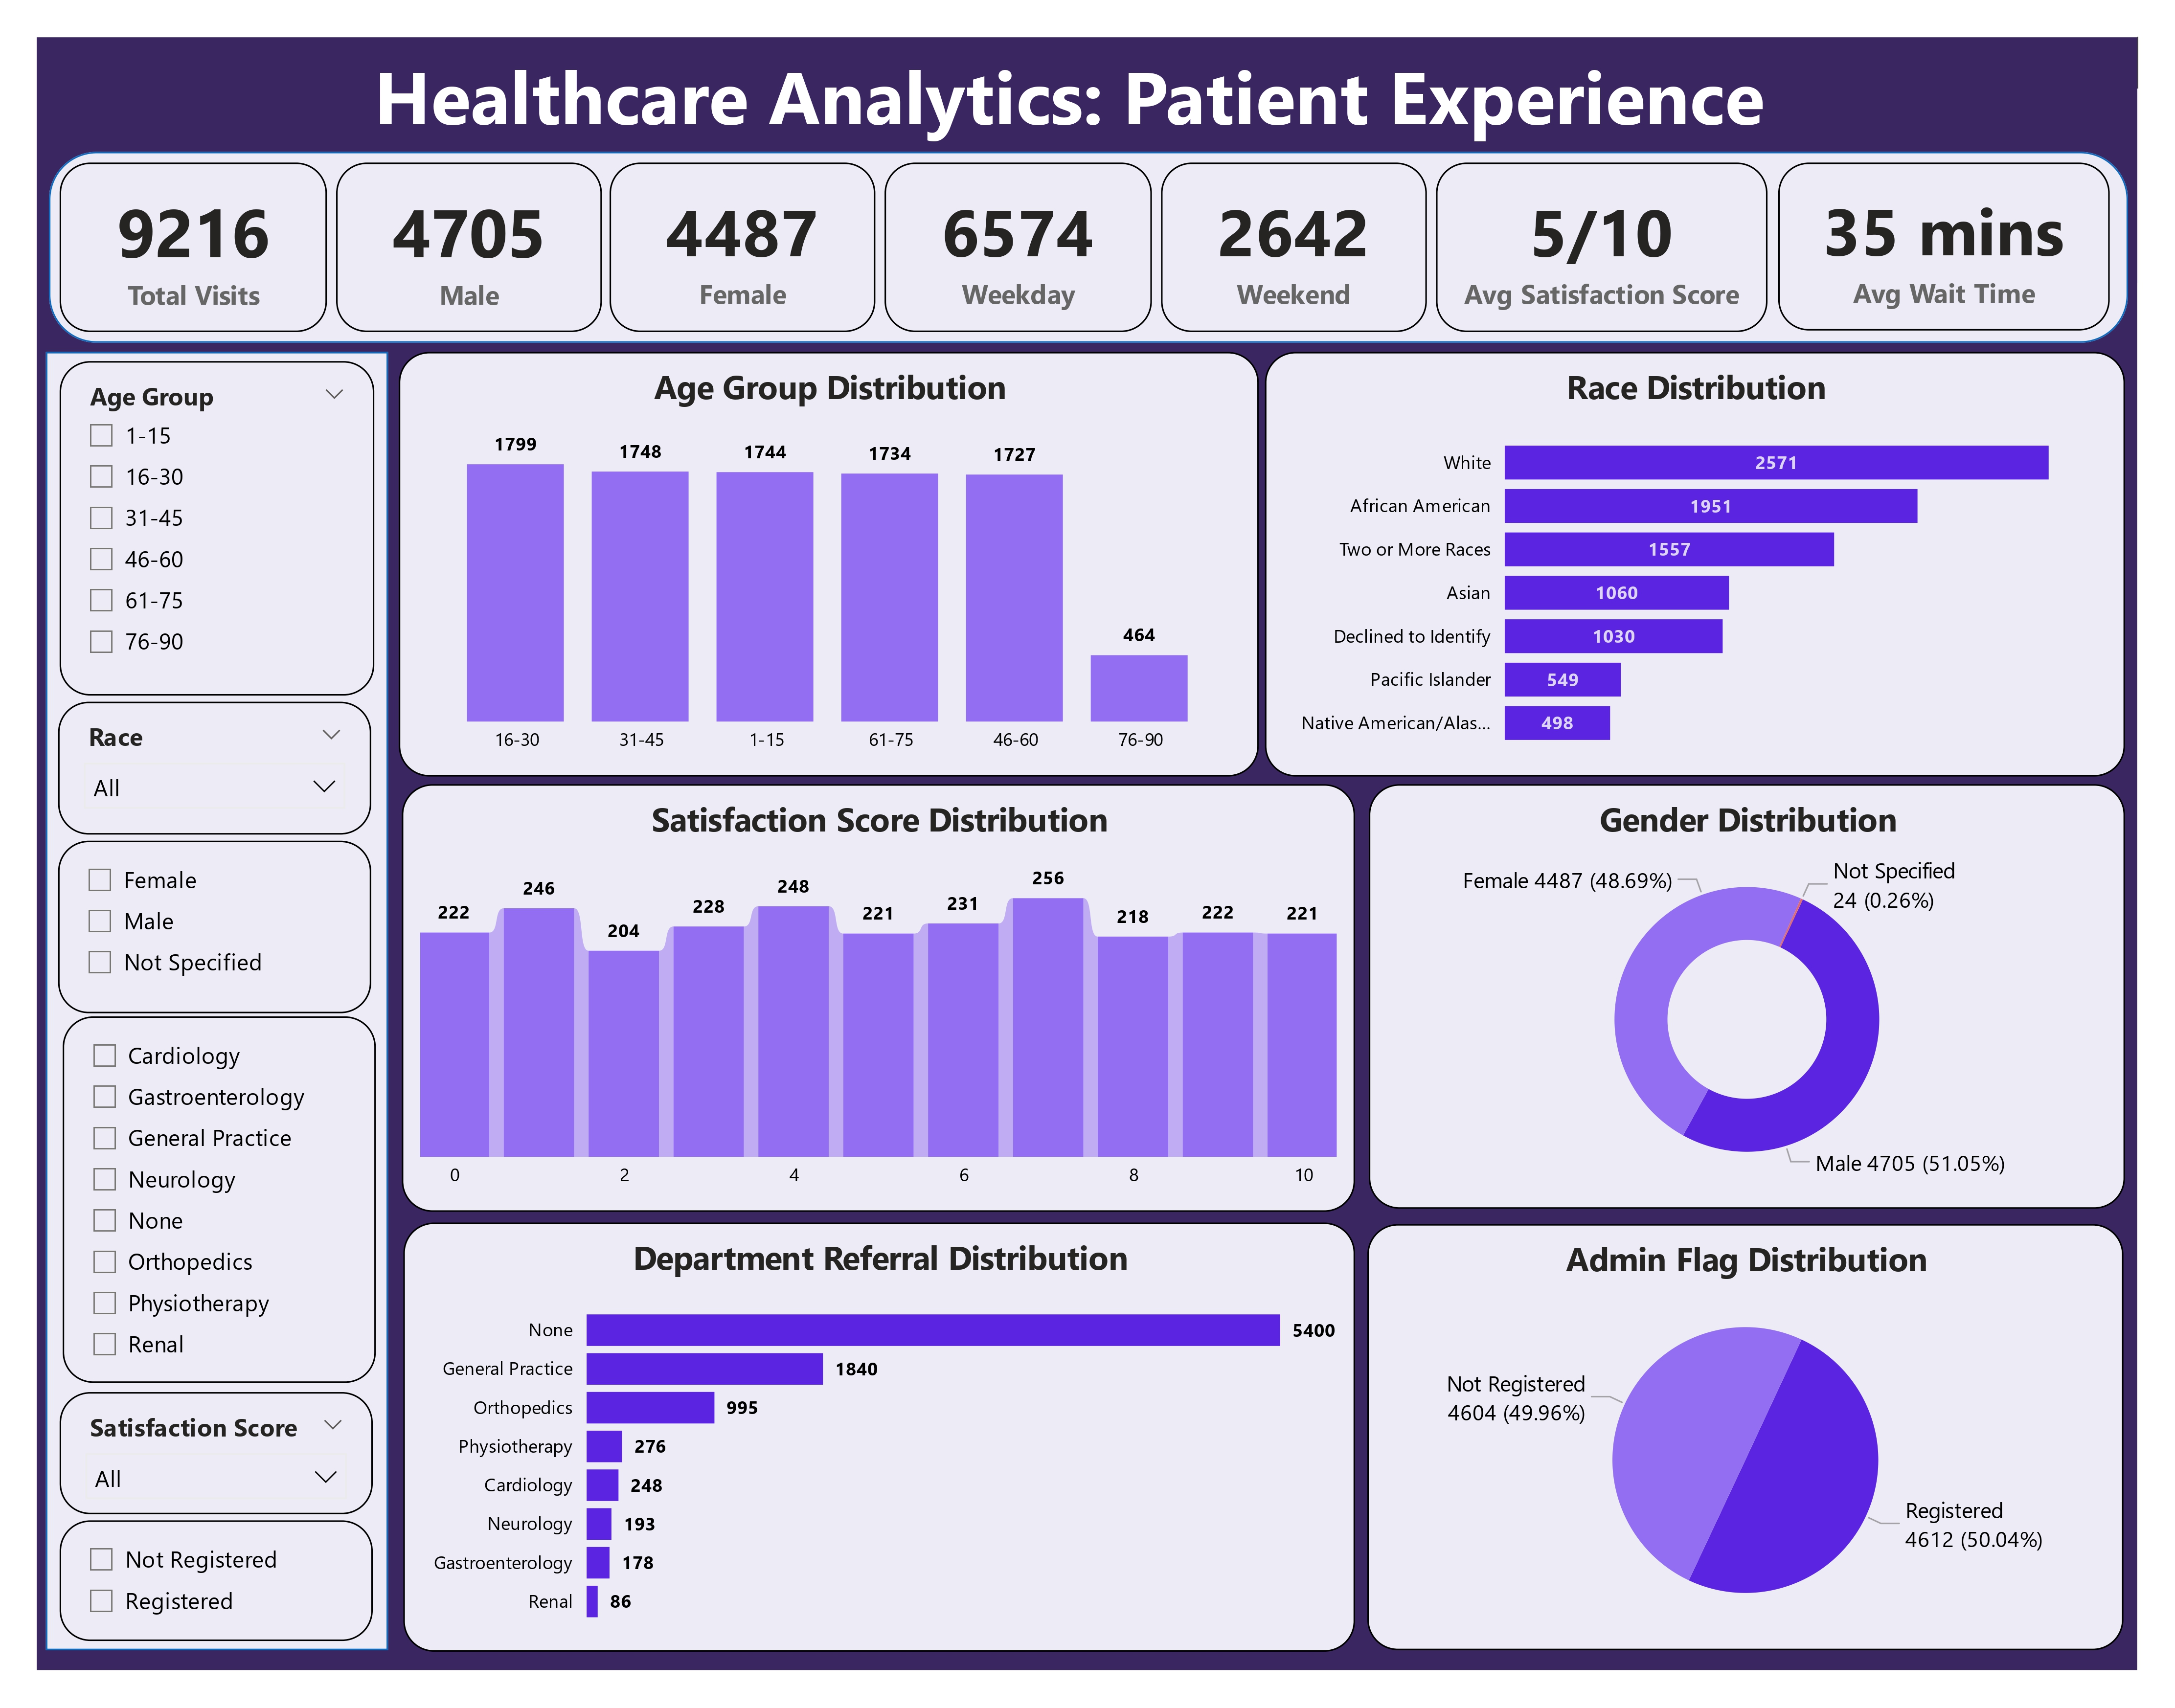

This screenshot's page, from the dashboard's own definition file:
{"tool":"powerbi","page":{"name":"Patient Profile & Experience","canvas":[1375,1069],"ordinal":1},"visuals":[{"type":"textbox","box":[0,0,1351.7,84.5],"z":0},{"type":"shape","box":[7.8,74.5,1361,125.5],"z":1000},{"type":"card","fields":{"Values":["Patients.Total Visits"]},"box":[14.9,82.1,174.6,110.4],"z":2000},{"type":"card","fields":{"Values":["Visits.Avg Satisfaction Score"]},"box":[916.4,82.1,217,110.4],"z":3000},{"type":"card","fields":{"Values":["Patients.Male"]},"box":[195.5,82.1,174,110.4],"z":4000},{"type":"card","fields":{"Values":["Patients.Female"]},"box":[374.6,82.1,174.6,110.4],"z":5000},{"type":"card","fields":{"Values":["Date.WeekDay"]},"box":[555.2,82.1,174.6,110.4],"z":6000},{"type":"card","fields":{"Values":["Date.Weekend"]},"box":[735.8,82.1,174.6,110.4],"z":7000},{"type":"card","fields":{"Values":["Visits.Avg Wait Time"]},"box":[1140,82,217,110],"z":8000},{"type":"shape","box":[6,206,224,850],"z":9000},{"type":"slicer","fields":{"Values":["Patients.age_group"]},"box":[15.4,211.5,205.1,219.2],"z":10000},{"type":"slicer","fields":{"Values":["Patients.patient_gender"]},"box":[14.3,526,205.2,113],"z":11000},{"type":"slicer","fields":{"Values":["Visits.department_referral"]},"box":[16.7,641,205.1,239.7],"z":12000},{"type":"slicer","fields":{"Values":["Visits.patient_sat_score"]},"box":[15.4,887.2,205,79.5],"z":13000},{"type":"slicer","fields":{"Values":["Patients.patient_race"]},"box":[14.3,435.1,205,87],"z":14000},{"type":"lineStackedColumnComboChart","title":"Age Group Distribution","fields":{"Category":["Patients.age_group"],"Y":["Patients.Total Visits"]},"box":[237.3,205.9,562.7,278.4],"z":15000},{"type":"clusteredBarChart","title":"Race Distribution","fields":{"Y":["Patients.Total Visits"],"Category":["Patients.patient_race"]},"box":[803.9,205.9,562.7,278.4],"z":16000},{"type":"donutChart","title":"Gender Distribution","fields":{"Y":["Patients.Total Visits"],"Category":["Patients.patient_gender"]},"box":[871.9,489.1,495.3,278.1],"z":17000},{"type":"columnChart","title":"Satisfaction Score Distribution","fields":{"Category":["Visits.patient_sat_score"],"Y":["CountNonNull(Visits.patient_sat_score)"]},"box":[239.1,489.1,623.4,279.7],"z":18000},{"type":"clusteredBarChart","title":"Department Referral Distribution","fields":{"Category":["Visits.department_referral"],"Y":["Patients.Total Visits"]},"box":[239.7,775.6,623.1,281],"z":19000},{"type":"pieChart","title":"Admin Flag Distribution","fields":{"Y":["Patients.Total Visits"],"Category":["Visits.patient_admin_flag"]},"box":[871.4,776.6,494.8,279.2],"z":20000},{"type":"slicer","fields":{"Values":["Visits.patient_admin_flag"]},"box":[15.4,970.5,205,79.5],"z":21000}]}

Visuals, with their boxes on the page's 1375x1069 design canvas (x1, y1, x2, y2). These are canvas units, not pixel positions in the 2175x1708 screenshot, which may show the page scaled, cropped or inside an application window:
textbox: Rect(0, 0, 1352, 84)
shape: Rect(8, 74, 1369, 200)
card - Patients.Total Visits: Rect(15, 82, 190, 192)
card - Visits.Avg Satisfaction Score: Rect(916, 82, 1133, 192)
card - Patients.Male: Rect(196, 82, 370, 192)
card - Patients.Female: Rect(375, 82, 549, 192)
card - Date.WeekDay: Rect(555, 82, 730, 192)
card - Date.Weekend: Rect(736, 82, 910, 192)
card - Visits.Avg Wait Time: Rect(1140, 82, 1357, 192)
shape: Rect(6, 206, 230, 1056)
slicer - Patients.age_group: Rect(15, 212, 220, 431)
slicer - Patients.patient_gender: Rect(14, 526, 220, 639)
slicer - Visits.department_referral: Rect(17, 641, 222, 881)
slicer - Visits.patient_sat_score: Rect(15, 887, 220, 967)
slicer - Patients.patient_race: Rect(14, 435, 219, 522)
"Age Group Distribution" lineStackedColumnComboChart: Rect(237, 206, 800, 484)
"Race Distribution" clusteredBarChart: Rect(804, 206, 1367, 484)
"Gender Distribution" donutChart: Rect(872, 489, 1367, 767)
"Satisfaction Score Distribution" columnChart: Rect(239, 489, 862, 769)
"Department Referral Distribution" clusteredBarChart: Rect(240, 776, 863, 1057)
"Admin Flag Distribution" pieChart: Rect(871, 777, 1366, 1056)
slicer - Visits.patient_admin_flag: Rect(15, 970, 220, 1050)
